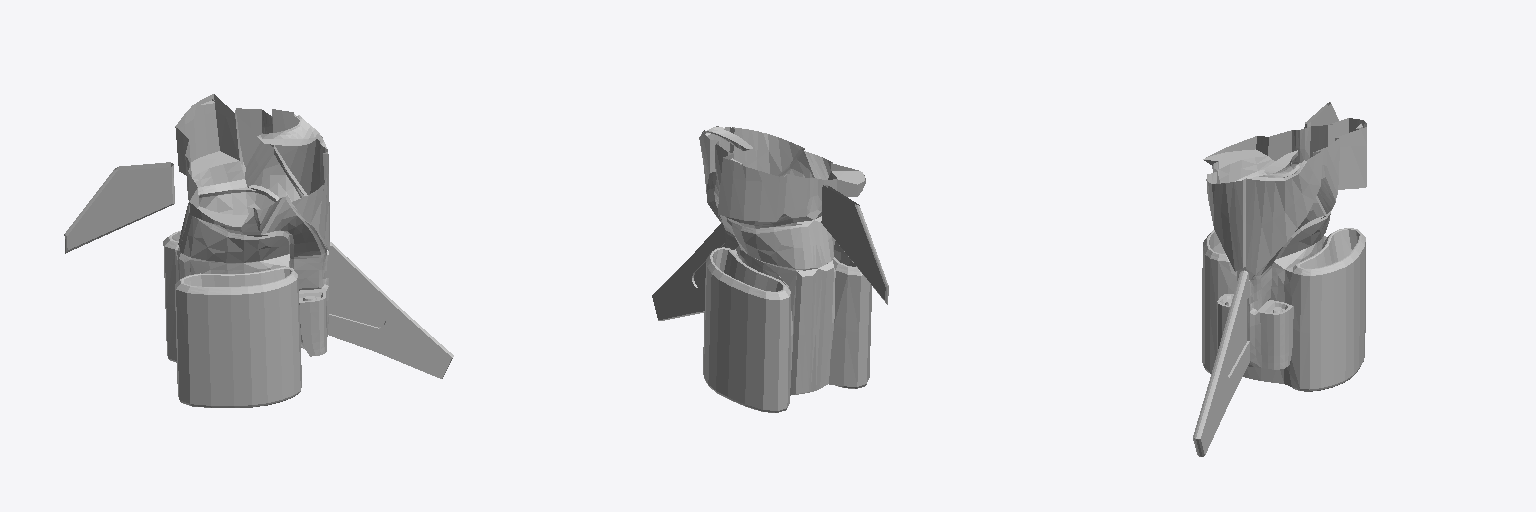
File: damaged_bottom.obj
The picture shows the model from 3 angles: view 1: azimuth 30°, elevation 25°; view 2: azimuth 150°, elevation 25°; view 3: azimuth 270°, elevation 25°; orthographic projection.
Visible parts, largest first — view 1: Cube.021_Cube.048_cell.002_Cube.021_Cube.048_cell.001; view 2: Cube.021_Cube.048_cell.002_Cube.021_Cube.048_cell.001; view 3: Cube.021_Cube.048_cell.002_Cube.021_Cube.048_cell.001.
Part boxes in pixels (x1,y1,x2,y2): Cube.021_Cube.048_cell.002_Cube.021_Cube.048_cell.001: (64, 94, 453, 407); Cube.021_Cube.048_cell.002_Cube.021_Cube.048_cell.001: (652, 126, 888, 412); Cube.021_Cube.048_cell.002_Cube.021_Cube.048_cell.001: (1193, 102, 1366, 456).
Bounding box in the file's own units: 5.67 × 4.51 × 2.75.